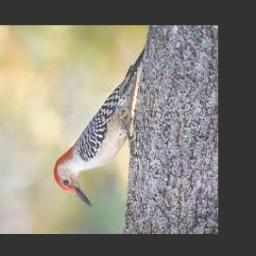Woodpecker: (53, 46, 146, 207)
